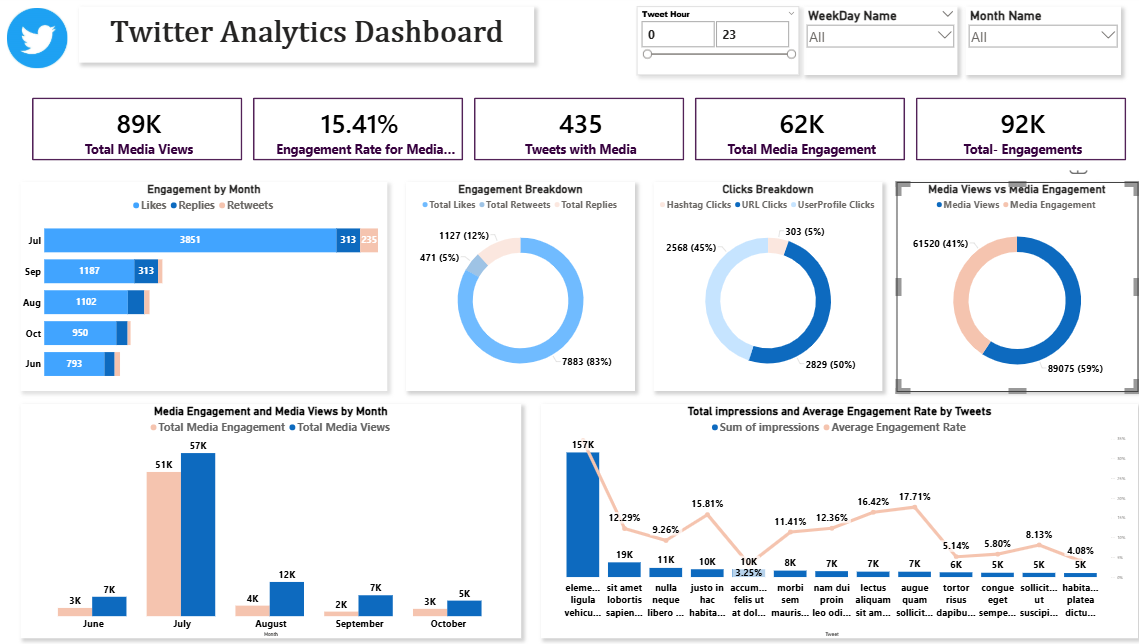

The dashboard page shown, as its layout file describes it:
{"tool":"powerbi","page":{"name":"tweet_Analysis(2","canvas":[3300,1850],"ordinal":1},"visuals":[{"type":"barChart","title":"Engagement by Month","fields":{"Y":["Sum(SocialMedia.likes)","Sum(SocialMedia.replies)","Sum(SocialMedia.retweets)"],"Category":["Calender.Month Name"]},"box":[73.7,521.1,1040.7,592.5],"z":0},{"type":"donutChart","title":"Engagement Breakdown","fields":{"Y":["Measure.Total Likes","Measure.Total Retweets","Measure.Total Replies"]},"box":[1167.6,521.1,649.5,592.5],"z":1000},{"type":"donutChart","title":"Clicks Breakdown","fields":{"Y":["Measure.Total Hashtag Clicks","Measure.Total URL Clicks","Measure.Total UserProfile Clicks"]},"box":[1866.5,521.1,649.5,592.5],"z":2000},{"type":"donutChart","title":"Media Views vs Media Engagement","fields":{"Y":["Measure.Total Media Views","Measure.Total Media Engagement"]},"box":[2557.8,521.1,683.7,592.5],"z":3000},{"type":"clusteredColumnChart","title":"Media Engagement and Media Views by Month","fields":{"Y":["Measure.Total Media Engagement","Measure.Total Media Views"],"Category":["Calender.Date.Variation.Date Hierarchy.Month"]},"box":[73.7,1147.9,1420.6,664.7],"z":4000},{"type":"lineClusteredColumnComboChart","title":"Total impressions and Average Engagement Rate by Tweets","fields":{"Category":["SocialMedia.Tweet"],"Y":["Sum(SocialMedia.impressions)"],"Y2":["Measure.Average Engagement Rate"]},"box":[1547.5,1147.9,1694.1,664.7],"z":5000},{"type":"cardVisual","fields":{"Data":["Measure.Total Media Views","Measure.Engagement Rate for Media Tweets","Measure.Tweets with Media","Measure.Total Media Engagement","Measure.Total- Engagements"]},"box":[76,250.7,3164,235.5],"z":6000},{"type":"slicer","fields":{"Values":["Calender.Month Name"]},"box":[2755.7,22.4,440.6,193.7],"z":7000},{"type":"slicer","fields":{"Values":["Calender.WeekDay Name"]},"box":[2296.1,22.4,436.8,193.7],"z":8000},{"type":"slicer","fields":{"Values":["SocialMedia.IST Hour Only"]},"box":[1821.3,22.4,459.6,193.7],"z":9000},{"type":"image","box":[0,26.6,239.3,170.9],"z":10000},{"type":"textbox","box":[239.3,22.8,1291.4,159.5],"z":11000}]}

Visuals, with their boxes in screenshot pixels (x1, y1, x2, y2), scaled from the page's 3300x1850 canvas onto the 1139x644 screenshot:
"Engagement by Month" barChart: bbox=[25, 181, 385, 388]
"Engagement Breakdown" donutChart: bbox=[403, 181, 627, 388]
"Clicks Breakdown" donutChart: bbox=[644, 181, 868, 388]
"Media Views vs Media Engagement" donutChart: bbox=[883, 181, 1119, 388]
"Media Engagement and Media Views by Month" clusteredColumnChart: bbox=[25, 400, 516, 631]
"Total impressions and Average Engagement Rate by Tweets" lineClusteredColumnComboChart: bbox=[534, 400, 1119, 631]
cardVisual - Measure.Total Media Views x Measure.Engagement Rate for Media Tweets: bbox=[26, 87, 1118, 169]
slicer - Calender.Month Name: bbox=[951, 8, 1103, 75]
slicer - Calender.WeekDay Name: bbox=[793, 8, 943, 75]
slicer - SocialMedia.IST Hour Only: bbox=[629, 8, 787, 75]
image: bbox=[0, 9, 83, 69]
textbox: bbox=[83, 8, 528, 63]
